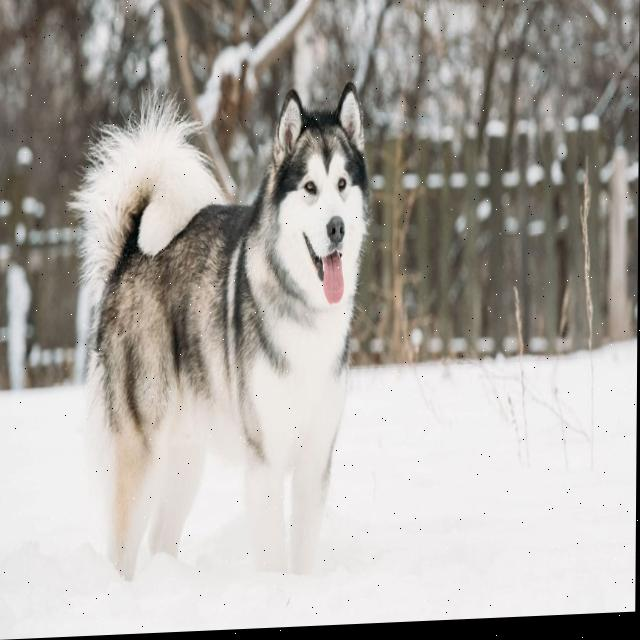ALASKAN_MALAMUTE: (74, 59, 407, 622)
